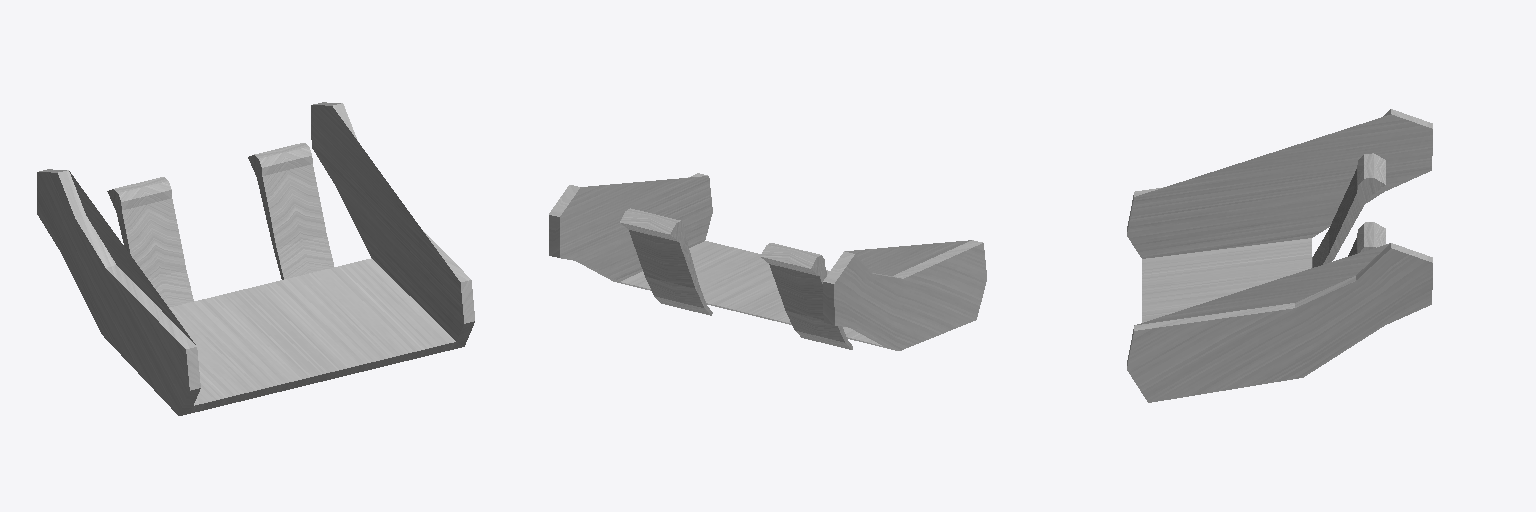
The picture shows the model from 3 angles: view 1: azimuth 30°, elevation 25°; view 2: azimuth 150°, elevation 25°; view 3: azimuth 270°, elevation 25°; orthographic projection.
Parts seen in each view (by area): view 1: Buckle Buckle; view 2: Buckle Buckle; view 3: Buckle Buckle.
Boxes of the visible parts, box(x1,y1,x2,y2) form: Buckle Buckle: box(37, 102, 474, 415); Buckle Buckle: box(549, 173, 986, 350); Buckle Buckle: box(1127, 109, 1432, 402).
Bounding box in the file's own units: 1.84 × 0.956 × 1.71.
Materials: 1 (1 with a texture image).